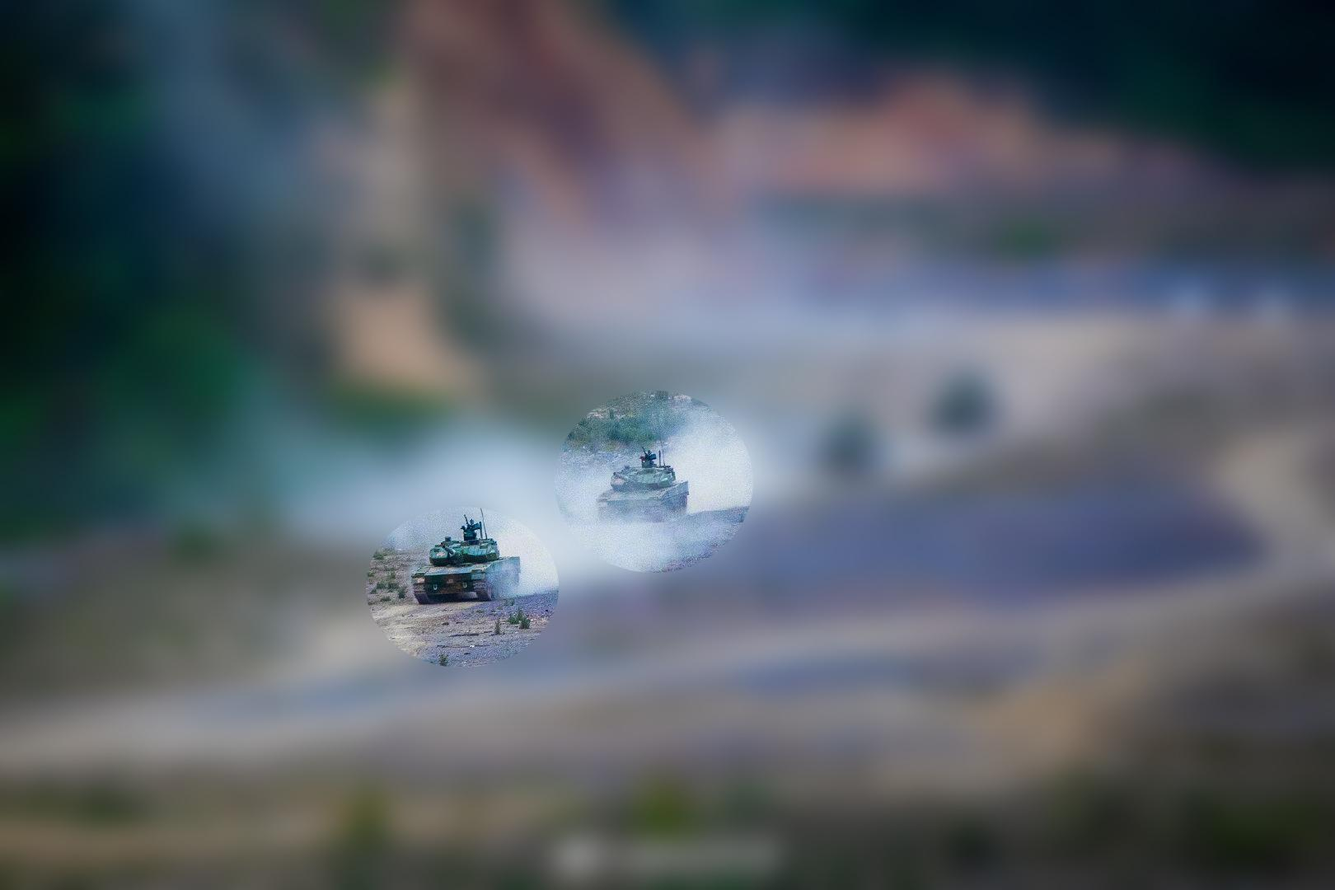tank: (409, 507, 527, 610), (594, 449, 696, 532)
